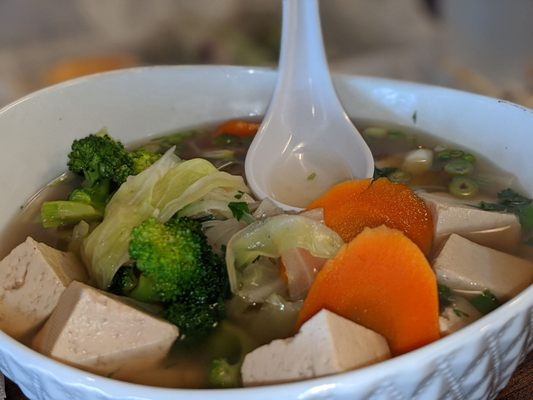curry: (120, 216, 230, 344), (40, 130, 164, 231)
